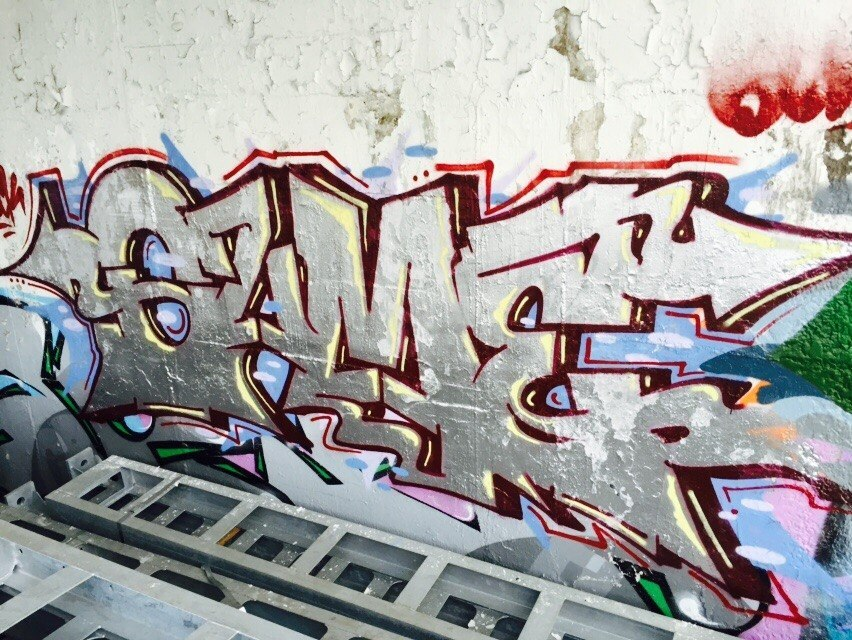graffity: (1, 142, 852, 638), (695, 35, 850, 148)
